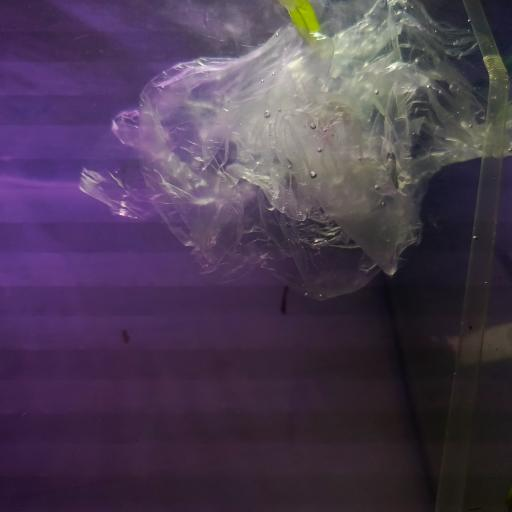plastic_bag: (76, 0, 512, 304)
plastic_straw: (436, 0, 512, 512)
